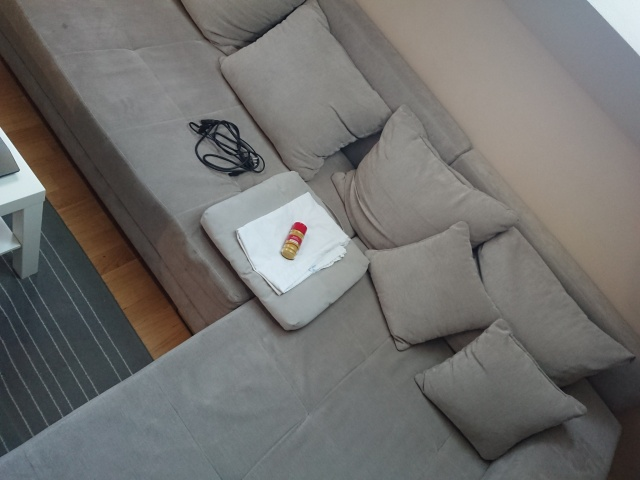Kotanyi Curry Spices Mix 70g: (279, 220, 309, 261)
